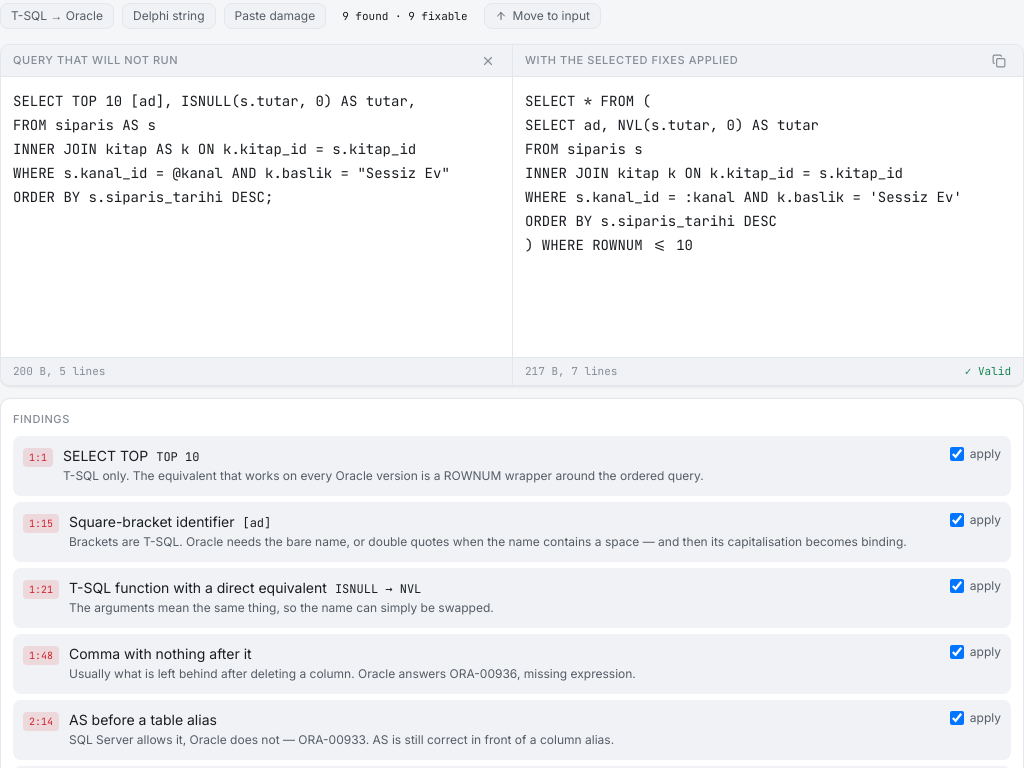
Test: SqlFixTool › otomatik düzeltmesi olmayan bulguda onay kutusu yoktur
Replace the text in the text box labelled "Query that will not run" with "select charindex(a, b) from t" at coordinates (256, 217), box [1,77,512,357]
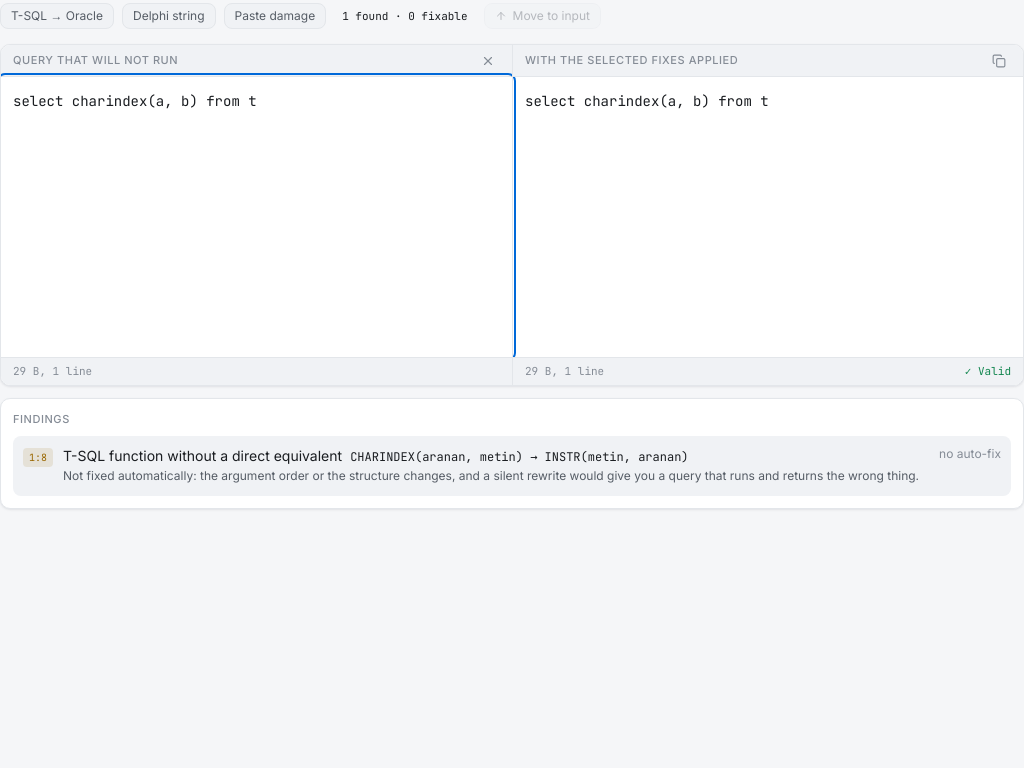
Result: the text "no auto-fix" is shown at [939,446,1001,462]
